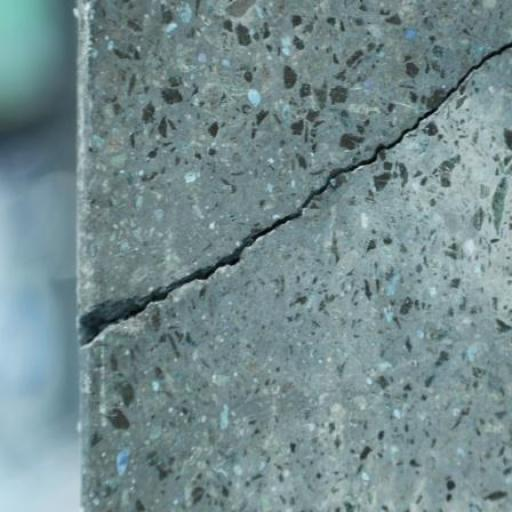spalling: (86, 35, 510, 349)
